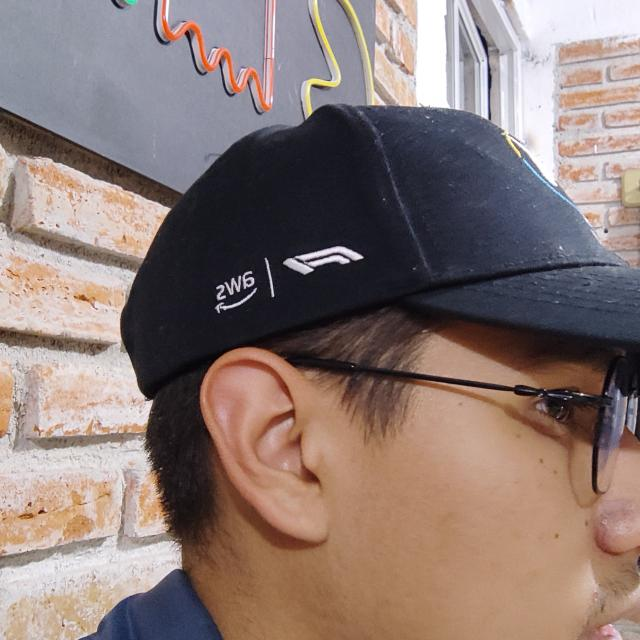ear: (200, 347, 336, 542)
